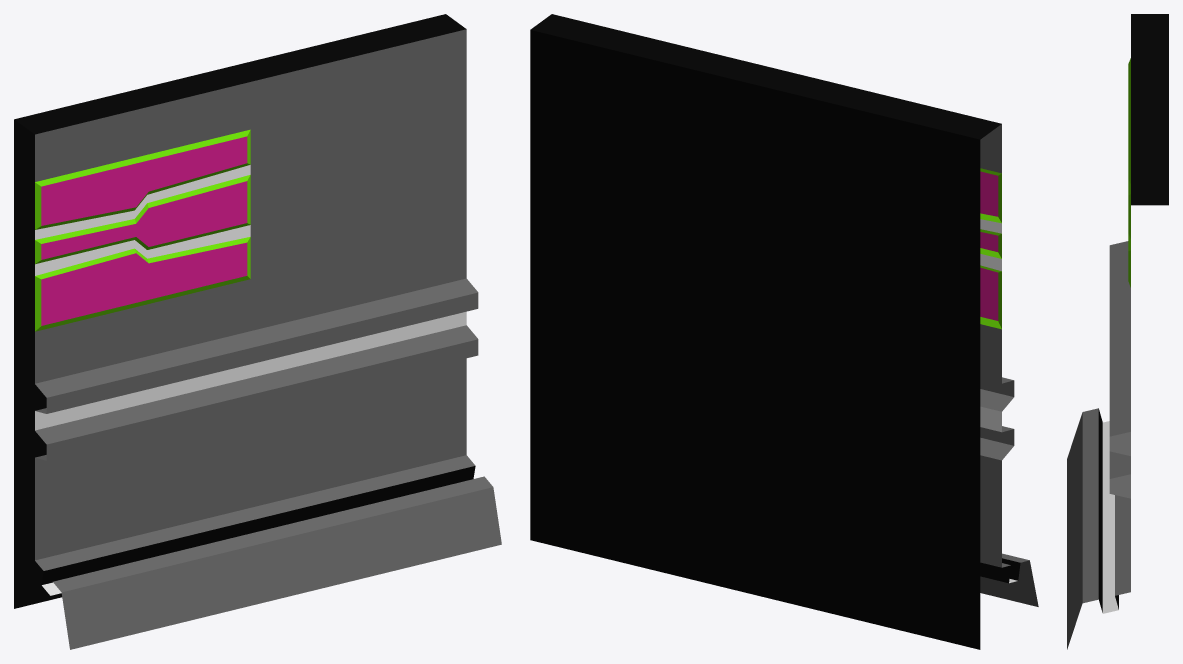
File: Wall_Base_Test_2.fbx
3 renders of one model, left to right at view 1: azimuth 30°, elevation 25°; view 2: azimuth 150°, elevation 25°; view 3: azimuth 270°, elevation 25°, orthographic. The views are drawn at different scales.
Visible parts, largest first — view 1: Wall.001; view 2: Wall.001; view 3: Wall.001.
Part boxes in pixels (box(x1,y1,x2,y2)): Wall.001: box(14, 14, 501, 649); Wall.001: box(530, 14, 1038, 649); Wall.001: box(1067, 14, 1168, 649).
Bounding box in the file's own units: 240 × 260 × 53.91.
